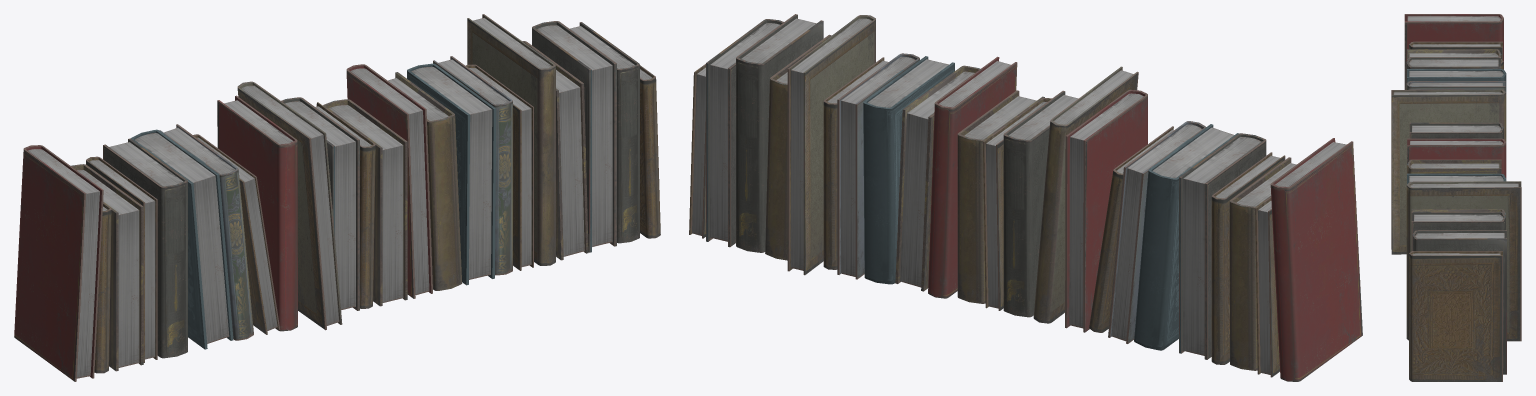
Rendered from SM_BookSet_A.fbx.
3 renders of one model, left to right at view 1: azimuth 30°, elevation 25°; view 2: azimuth 150°, elevation 25°; view 3: azimuth 270°, elevation 25°, orthographic. The views are drawn at different scales.
Visible parts, largest first — view 1: SM_BookSet_A; view 2: SM_BookSet_A; view 3: SM_BookSet_A.
Part boxes in pixels (x1,y1,x2,y2): SM_BookSet_A: (14, 14, 660, 381); SM_BookSet_A: (689, 14, 1362, 381); SM_BookSet_A: (1391, 14, 1521, 381).
Size of the model in its own units: 84.04 by 20.47 by 26.81.
1 material, 1 textured.
